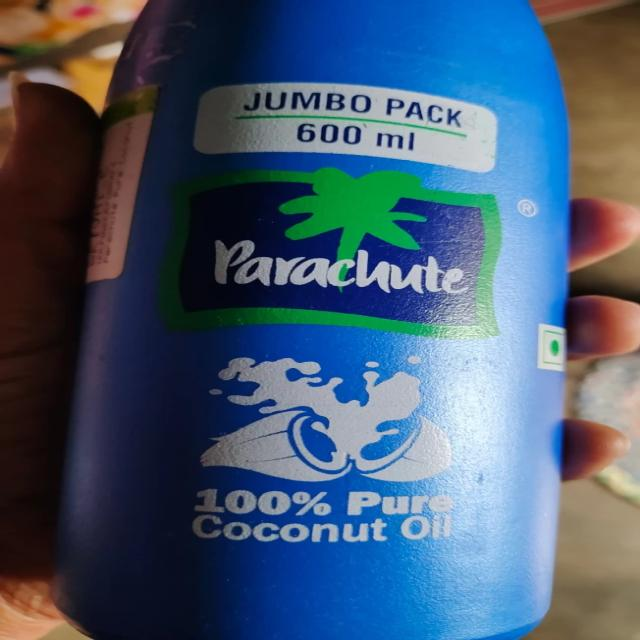parachute_oil: (68, 6, 582, 640)
